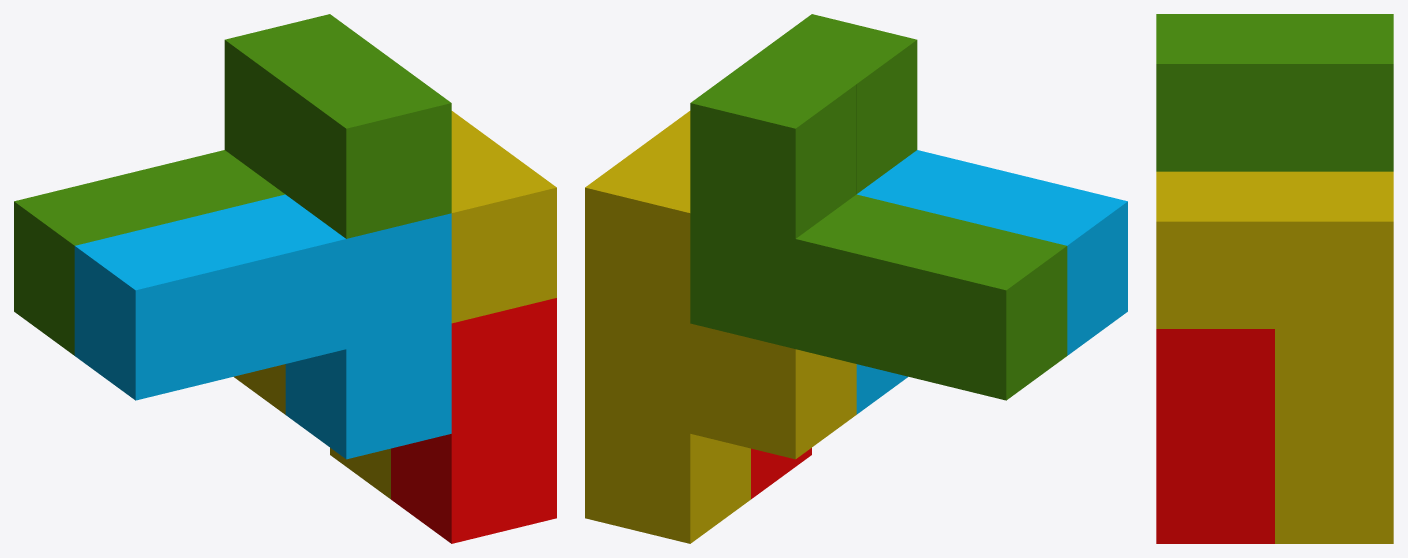
3 renders of one model, left to right at view 1: azimuth 30°, elevation 25°; view 2: azimuth 150°, elevation 25°; view 3: azimuth 270°, elevation 25°, orthographic. The views are drawn at different scales.
Visible parts, largest first — view 1: mergedBlocks(Clone); view 2: mergedBlocks(Clone); view 3: mergedBlocks(Clone).
Boxes of the visible parts, x1,y1,x2,y2 form: mergedBlocks(Clone): (14,14,556,543); mergedBlocks(Clone): (585,14,1127,543); mergedBlocks(Clone): (1156,14,1393,543).
Bounding box in the file's own units: 4 × 4 × 2.
Materials: 4 (4 with a texture image).
